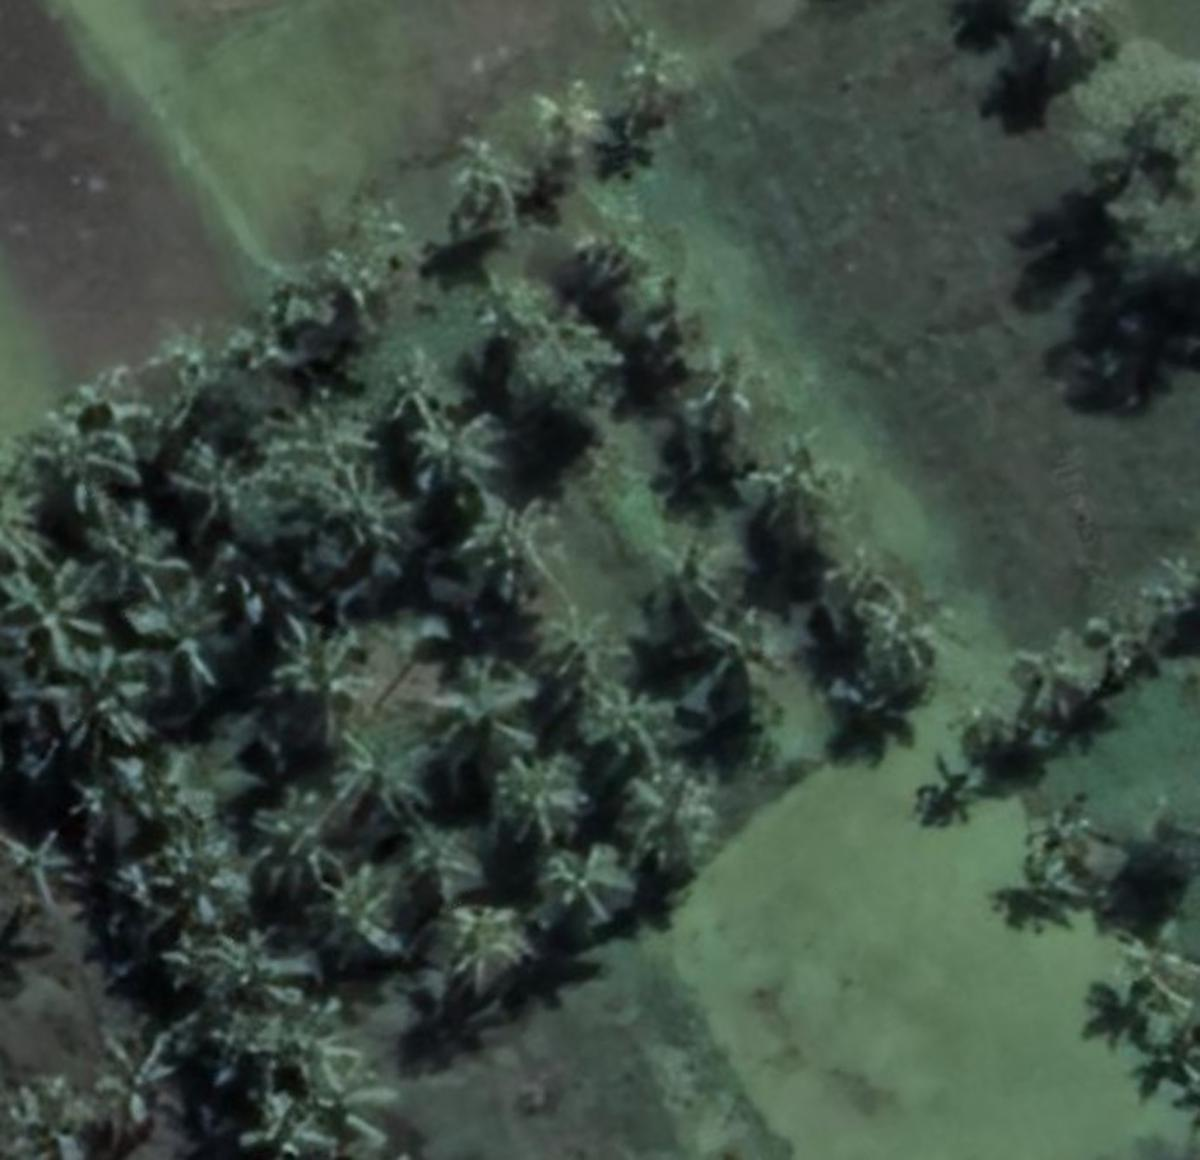coconut: (619, 768, 733, 888), (318, 714, 446, 819), (429, 653, 547, 766), (81, 1022, 196, 1138), (81, 495, 200, 601), (304, 460, 417, 570), (267, 613, 384, 718), (1, 564, 114, 673), (318, 864, 424, 977), (429, 133, 537, 241), (481, 749, 598, 848), (846, 594, 982, 678), (693, 605, 794, 718), (1017, 798, 1120, 907), (196, 932, 318, 1022), (391, 820, 493, 928), (753, 438, 864, 533), (521, 76, 615, 186), (264, 789, 351, 907), (429, 897, 535, 994), (573, 686, 686, 777), (460, 495, 558, 598), (1000, 624, 1107, 714), (523, 843, 624, 932), (674, 346, 772, 436), (949, 697, 1062, 775), (810, 544, 921, 620), (1, 812, 86, 907), (412, 406, 509, 483), (1104, 932, 1200, 1008), (544, 608, 631, 683), (650, 532, 726, 601)
